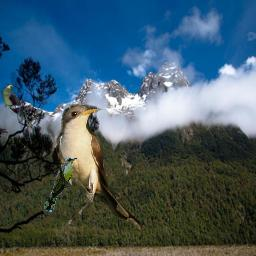Cuckoo: (56, 104, 145, 232), (44, 158, 77, 212), (1, 84, 37, 130)
